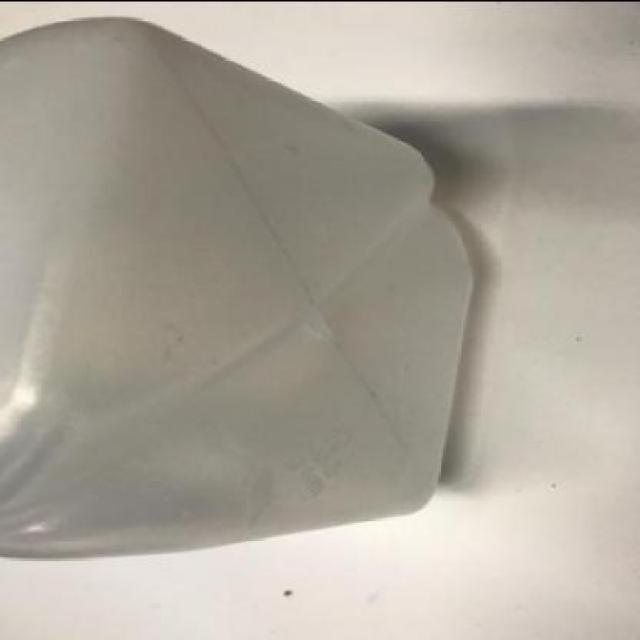PLASTIC: (0, 13, 474, 558)
